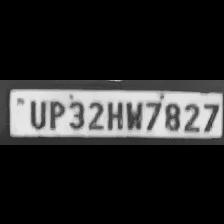2: (84, 98, 104, 130), (180, 100, 200, 132)
3: (64, 98, 84, 130)
7: (141, 97, 161, 130), (199, 100, 219, 132)
8: (162, 100, 182, 132)
H: (104, 98, 124, 130)
P: (45, 98, 65, 130)
U: (25, 97, 47, 129)
W: (122, 97, 142, 131)
